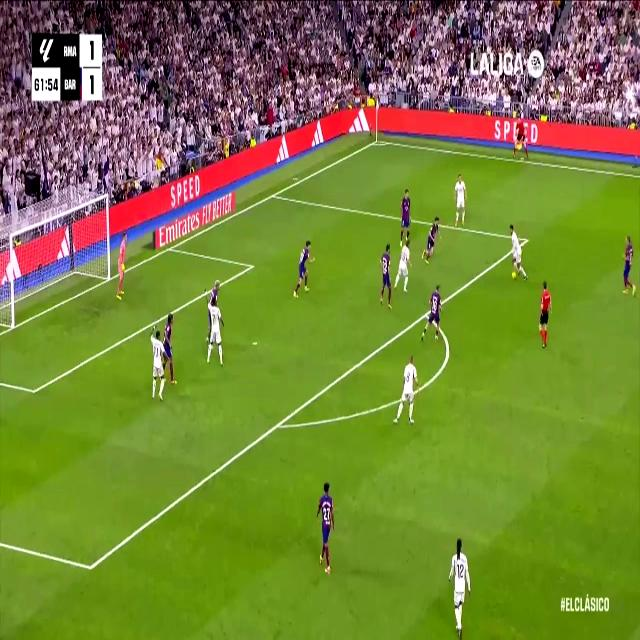bigarea_bottom_inner: (84, 549, 98, 584)
bigarea_top_inner: (522, 229, 531, 249)
bigarea_top_outter: (269, 186, 279, 202)
bottom_arc_area_intersection: (271, 409, 285, 438)
corner: (371, 134, 382, 147)
smallarea_bottom_inner: (29, 378, 39, 403)
smallarea_top_inner: (247, 255, 257, 276)
top_arc_area_intersection: (422, 306, 430, 322)
